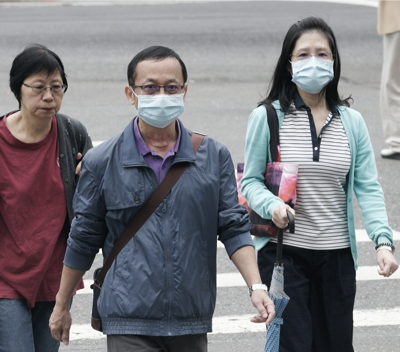with_mask: (134, 77, 188, 128), (290, 43, 335, 93)
without_mask: (21, 78, 65, 119)
